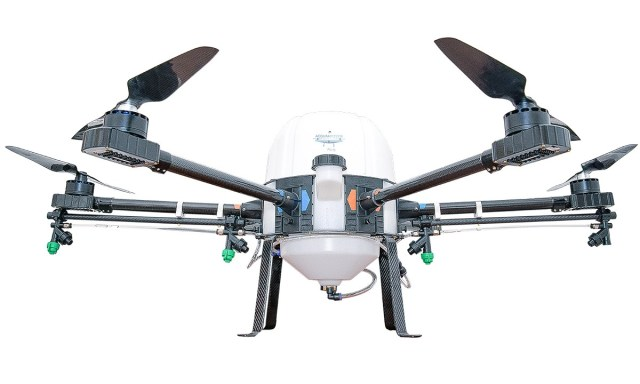drone: (6, 36, 638, 347)
